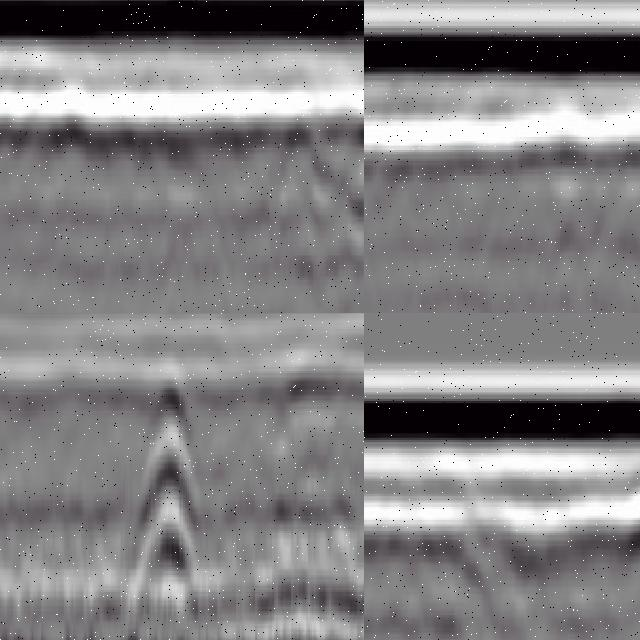crack: (137, 355, 203, 602)
loose: (397, 510, 558, 640), (288, 123, 365, 283), (365, 120, 418, 314)
